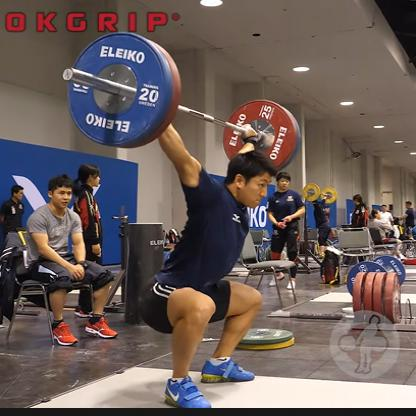Barbell: (53, 31, 189, 152)
